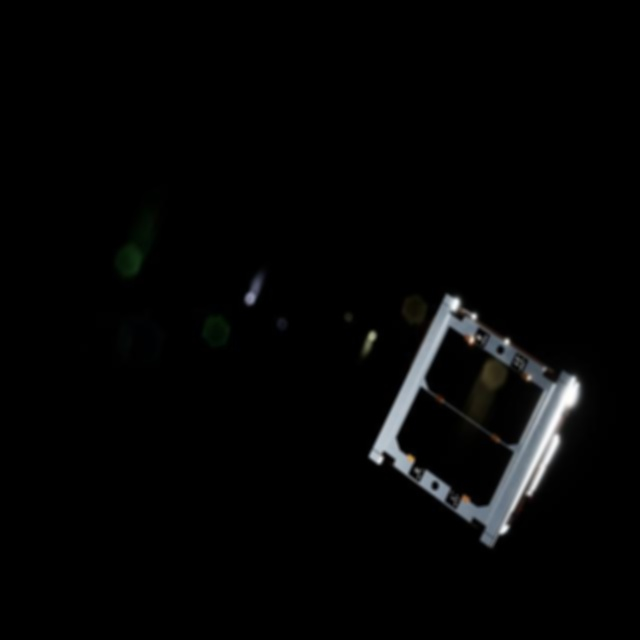satellite: (364, 288, 583, 552)
